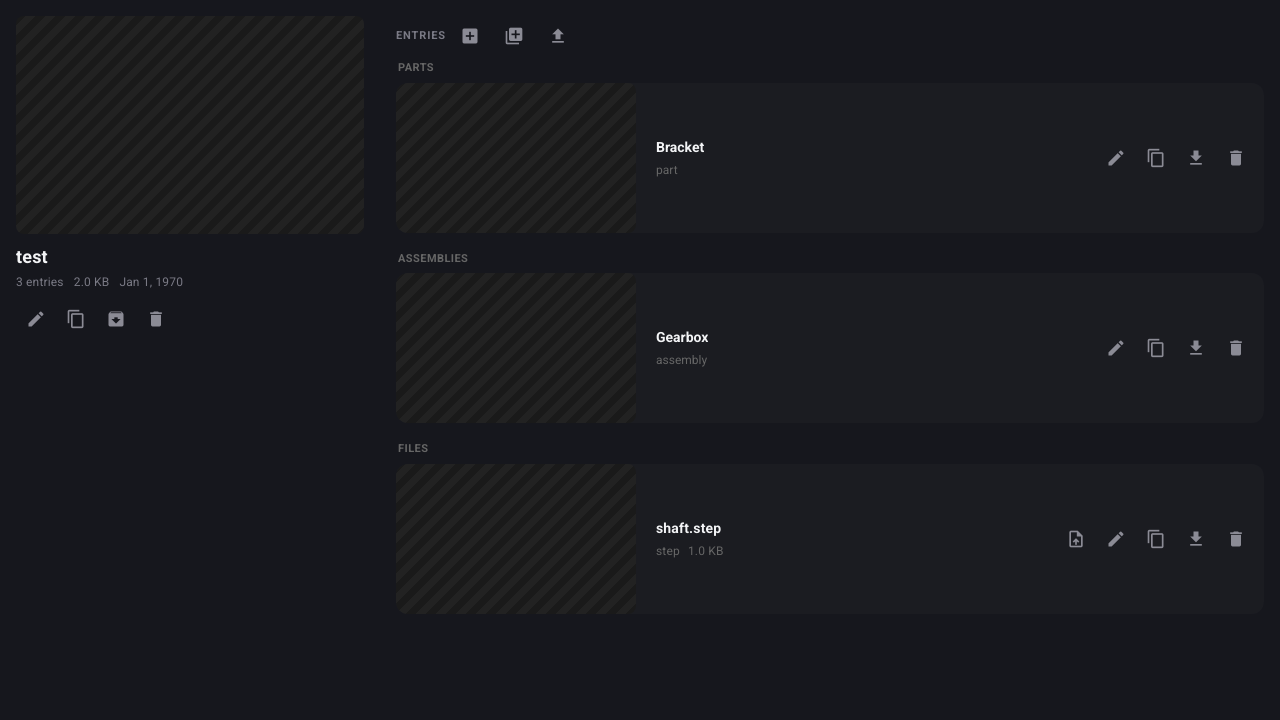
it: WorkspaceView › surfaces a failed verb instead of swallowing it
Expected: the text "Bracket" is shown, [656,136,704,158]
Click the button named "Duplicate Bracket". click: click(1156, 158)
box: [1136,138,1176,178]
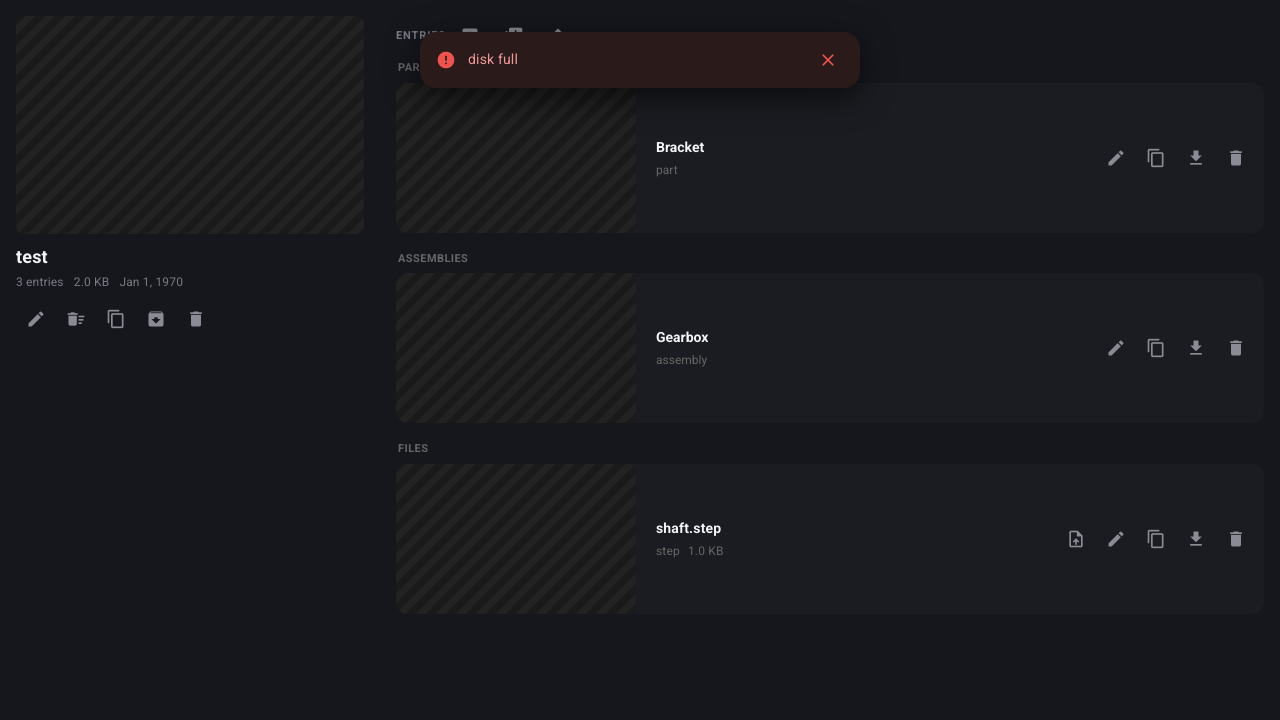
Expected: the text "disk full" is shown, [468,51,518,67]
